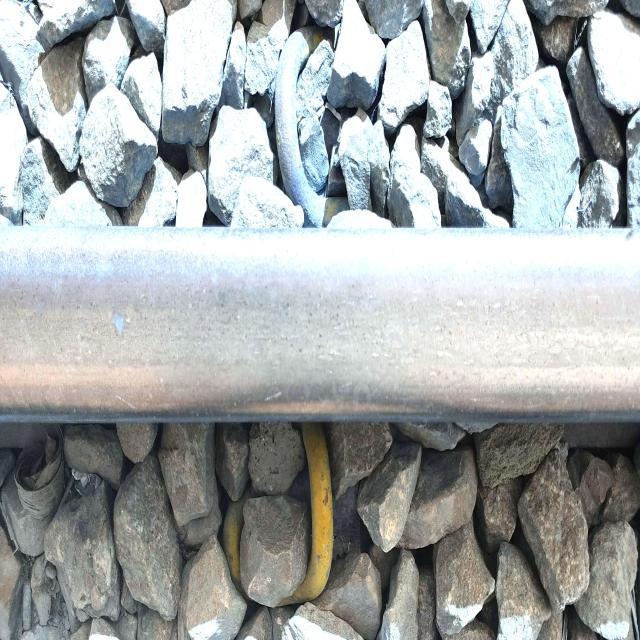Good Fasteners: (223, 423, 367, 607), (275, 32, 325, 227)
